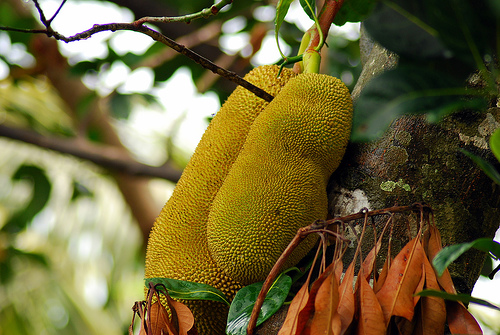jackfruit: (143, 64, 305, 334), (205, 72, 353, 280)
